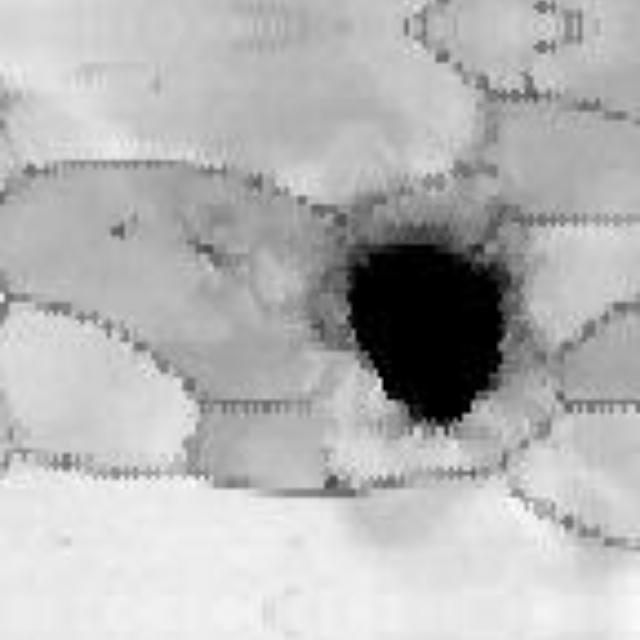good_void: (317, 220, 531, 435), (175, 228, 247, 281), (105, 205, 141, 244)
